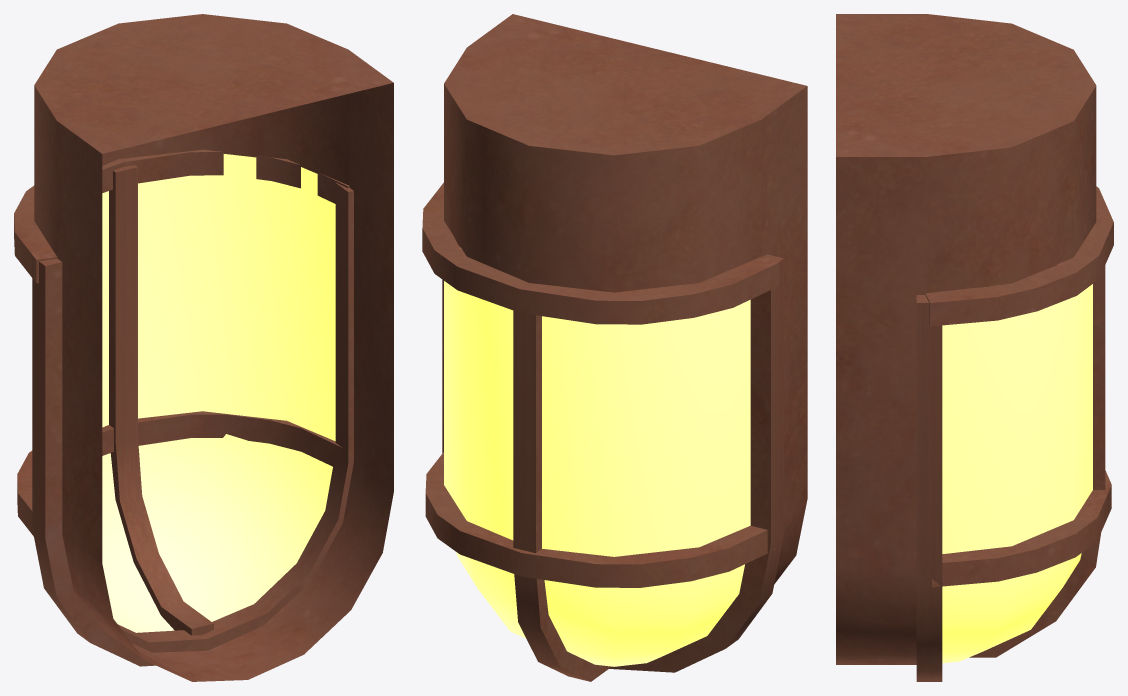
File: Marine_WallMounted_HalfBulb_Chopped.fbx
The picture shows the model from 3 angles, left to right: view 1: azimuth 30°, elevation 25°; view 2: azimuth 150°, elevation 25°; view 3: azimuth 270°, elevation 25°; orthographic projection.
Visible parts, largest first — view 1: Marine_WallMounted_HalfBulb_Chopped; view 2: Marine_WallMounted_HalfBulb_Chopped; view 3: Marine_WallMounted_HalfBulb_Chopped.
Boxes of the visible parts, x1,y1,x2,y2 form: Marine_WallMounted_HalfBulb_Chopped: (14,14,393,681); Marine_WallMounted_HalfBulb_Chopped: (422,14,807,681); Marine_WallMounted_HalfBulb_Chopped: (836,14,1113,681).
Size of the model in its own units: 21.54 by 35.68 by 15.59.
2 materials, 1 textured.
